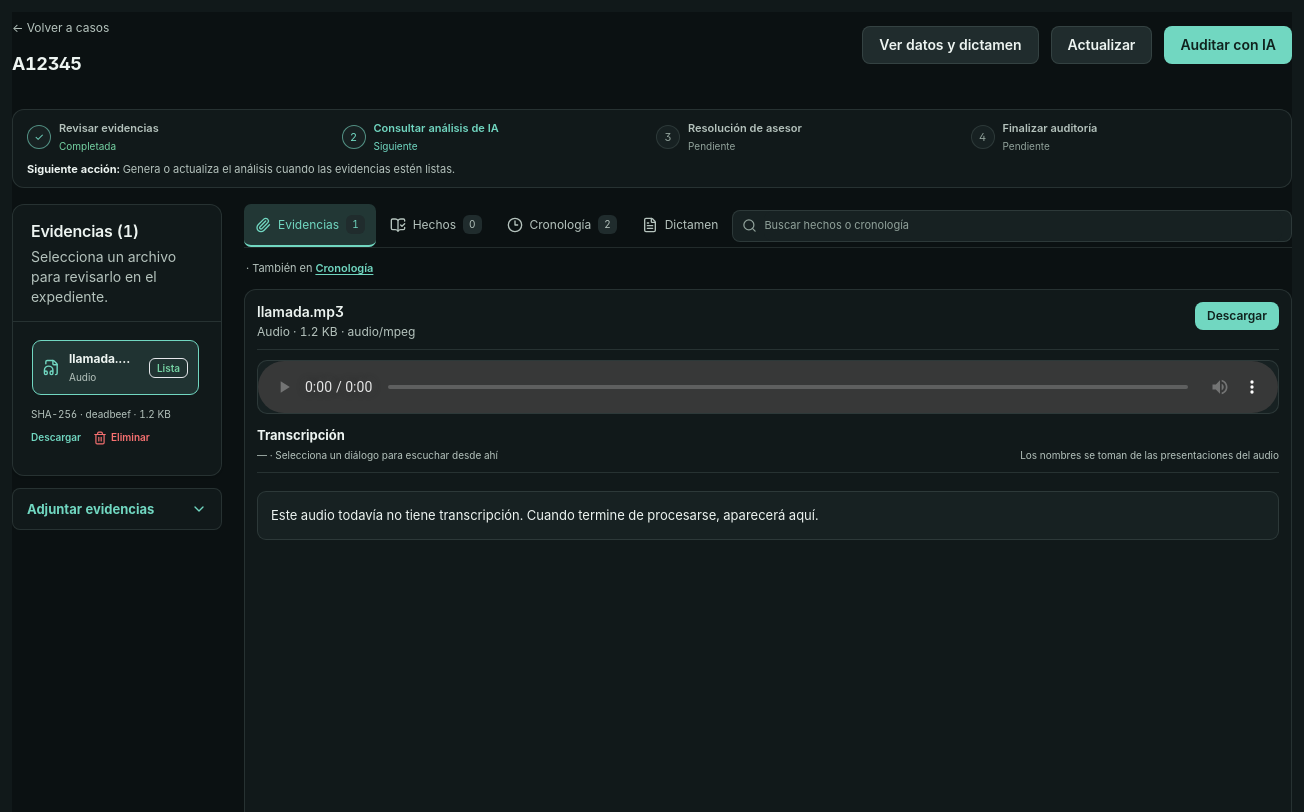
Scenario: CaseDetailPage · confirmación antes de auditar › sin comentarios, muestra confirmación y NO dispara startAudit
Step 1. Click the button "Auditar con IA" → click(1228, 44), box [1164,26,1292,64]
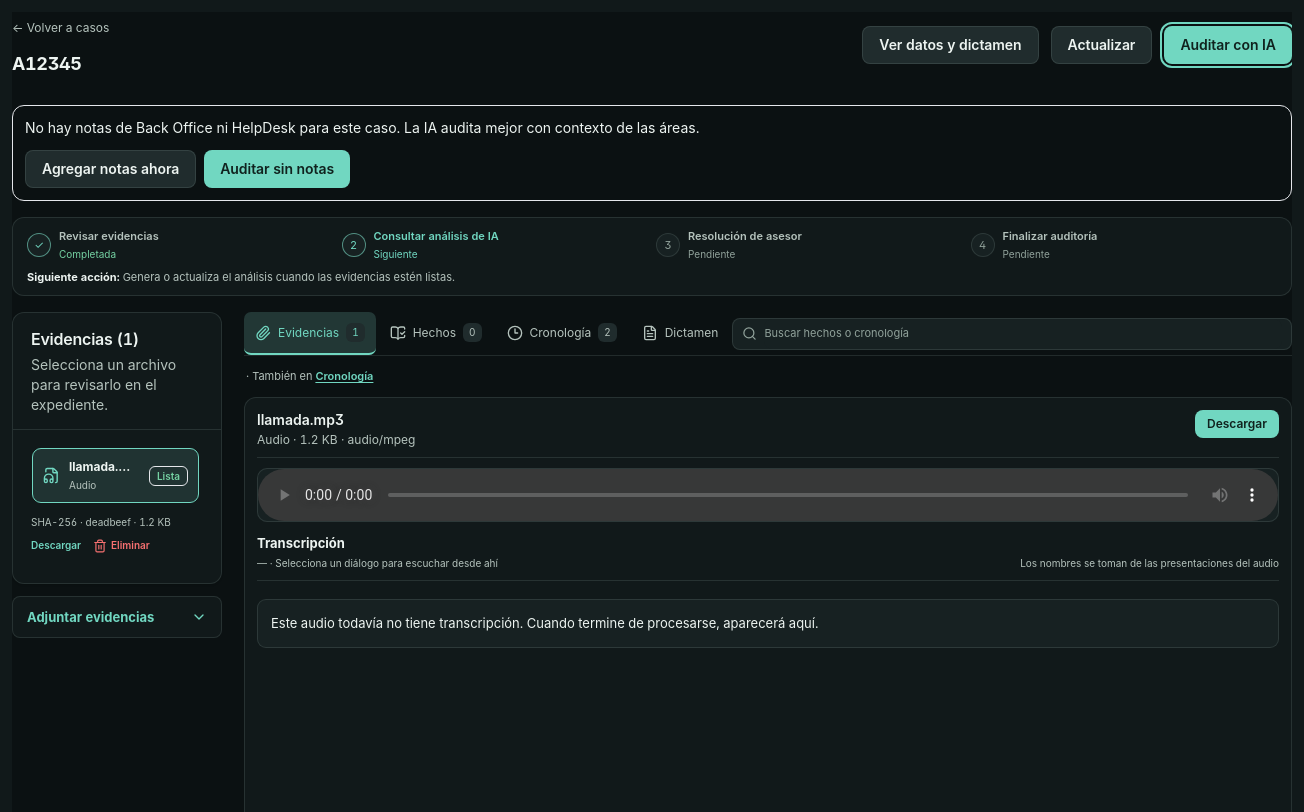
Expected: the text "No hay notas de Back Office ni HelpDesk" is shown, [25,119,699,136]
Expected: the button "Agregar notas ahora" is shown, [25,150,196,188]
Expected: the button "Auditar sin notas" is shown, [204,150,350,188]
